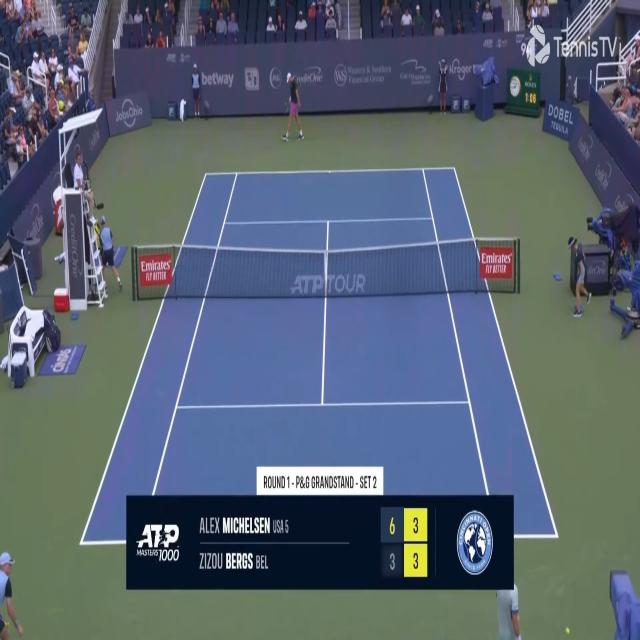tennis-player: (282, 70, 307, 143)
